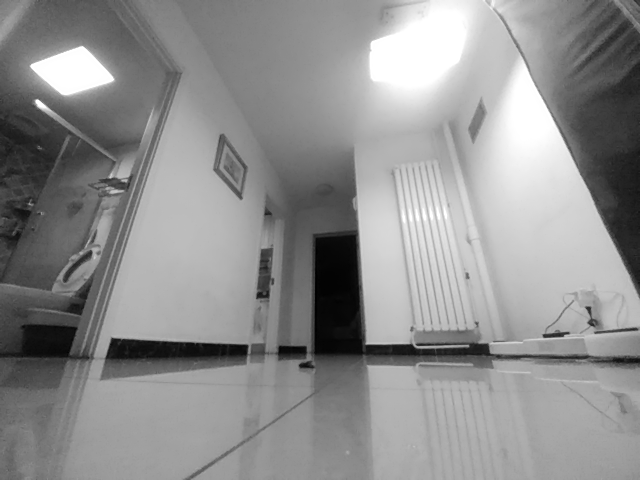pet feces: (297, 359, 314, 369)
